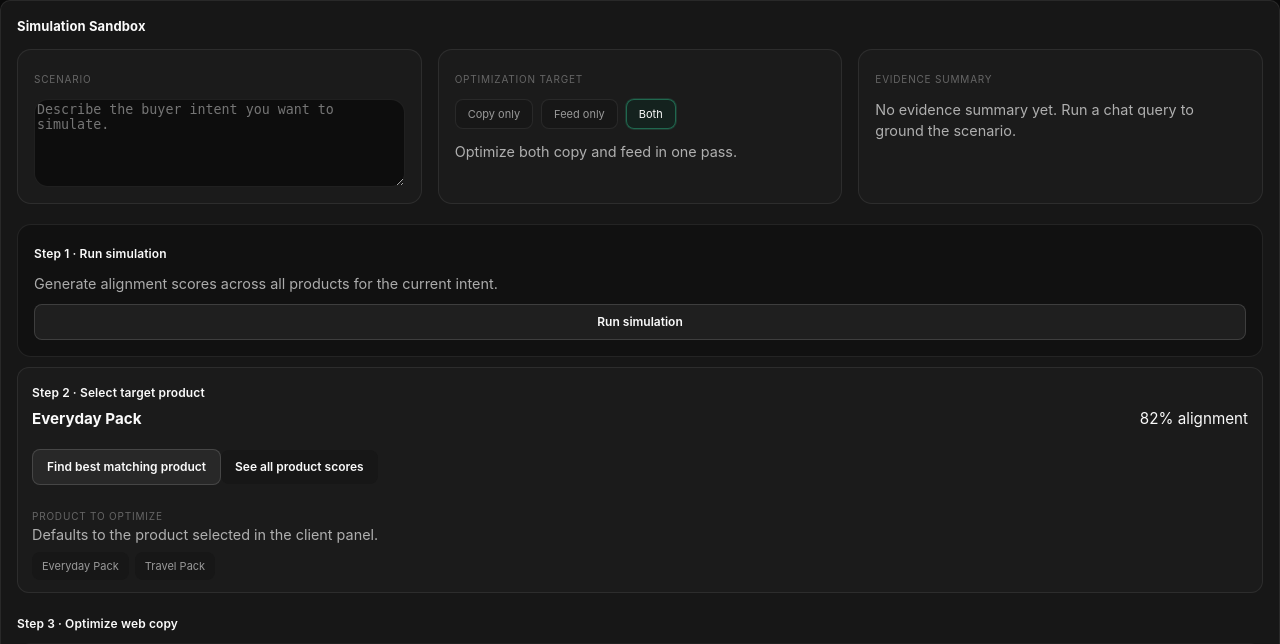
Scenario: SimulationPanel › shows product names in score details instead of raw product ids
Click the button "See all product scores" at (299, 467), box [221,450,378,484]
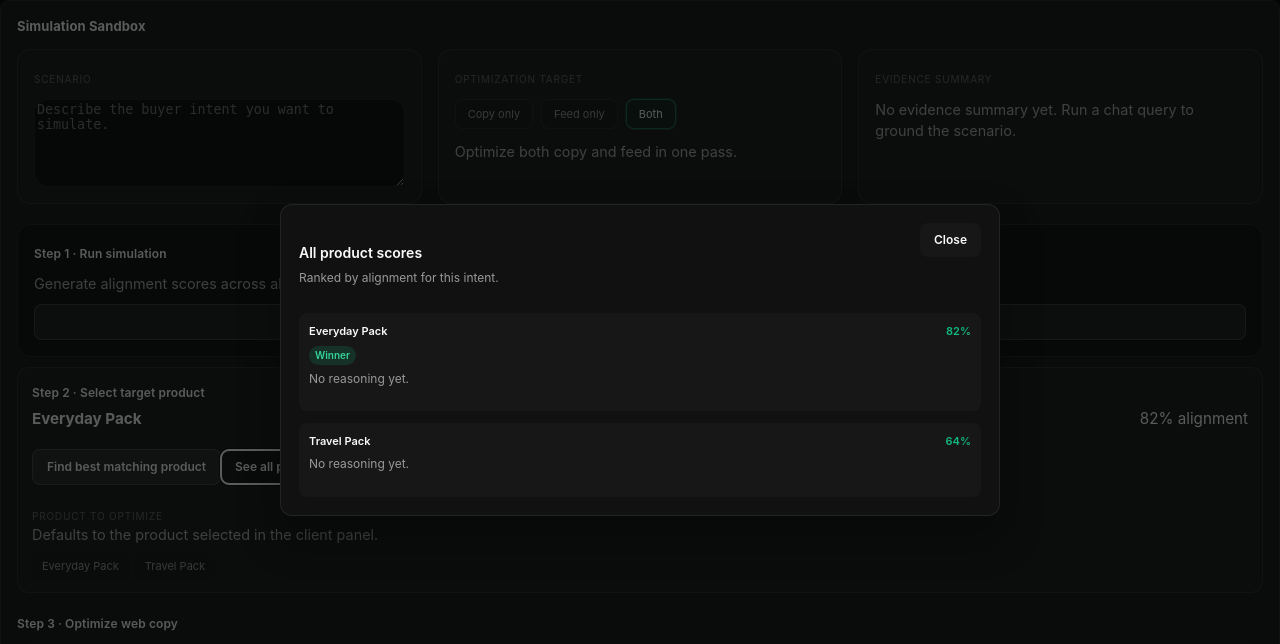
Expected: the text "Everyday Pack" is shown, [309,323,388,340]
Expected: the text "Travel Pack" is shown, [309,433,370,450]
